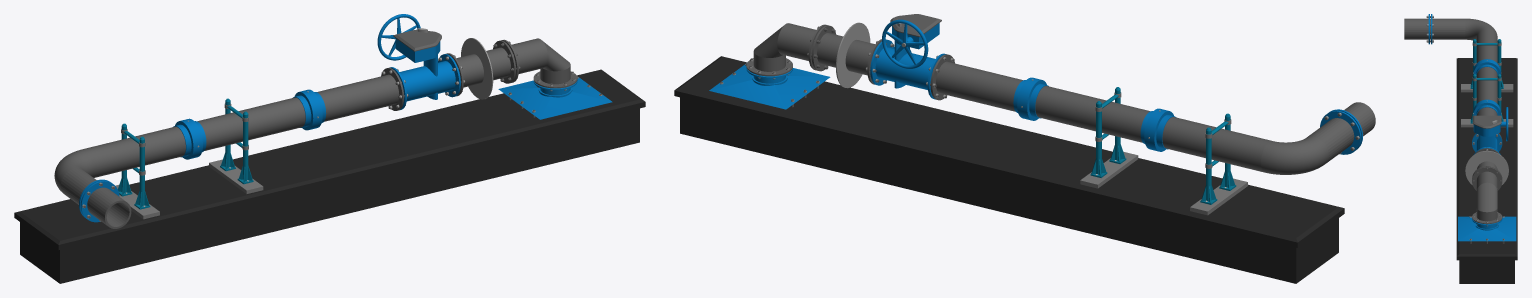
File: PRU.fbx
3 views of the same model, side by side, from view 1: azimuth 30°, elevation 25°; view 2: azimuth 150°, elevation 25°; view 3: azimuth 270°, elevation 25° (orthographic). The views are drawn at different scales.
Parts seen in each view (by area): view 1: Box218, Cylinder223, Torus007, Cone001, Cylinder216, Cylinder224, Cylinder160, Cylinder107, Box019, Box020, Cylinder226, Cylinder259 (+6 smaller); view 2: Box218, Cylinder223, Torus007, Cone001, Cylinder216, Cylinder224, Cylinder107, Cylinder160, Box020, Box222, Box019, Cylinder226 (+5 smaller); view 3: Box218, Torus007, Cylinder223, Cone001, Cylinder160, Cylinder106, Box019, Cylinder117, Cylinder107, Box018, Cylinder189, Cylinder105 (+12 smaller).
Boxes of the visible parts, x1=… form: Box218: x1=14, y1=69, x2=645, y2=283; Cylinder223: x1=83, y1=74, x2=399, y2=177; Torus007: x1=54, y1=149, x2=131, y2=228; Cone001: x1=498, y1=77, x2=612, y2=119; Cylinder216: x1=399, y1=61, x2=455, y2=101; Cylinder224: x1=456, y1=47, x2=510, y2=87; Cylinder160: x1=461, y1=38, x2=493, y2=99; Cylinder107: x1=511, y1=38, x2=548, y2=73; Box019: x1=393, y1=29, x2=441, y2=51; Box020: x1=209, y1=159, x2=263, y2=193; Cylinder226: x1=294, y1=89, x2=322, y2=130; Cylinder259: x1=175, y1=118, x2=202, y2=159; Box218: x1=674, y1=56, x2=1344, y2=283; Cylinder223: x1=936, y1=61, x2=1271, y2=172; Torus007: x1=1261, y1=102, x2=1375, y2=174; Cone001: x1=709, y1=64, x2=830, y2=109; Cylinder216: x1=875, y1=47, x2=935, y2=89; Cylinder224: x1=817, y1=33, x2=874, y2=75; Cylinder107: x1=777, y1=23, x2=816, y2=60; Cylinder160: x1=836, y1=22, x2=870, y2=88; Box020: x1=1080, y1=151, x2=1138, y2=188; Box222: x1=1190, y1=178, x2=1247, y2=215; Box019: x1=890, y1=14, x2=941, y2=37; Cylinder226: x1=1017, y1=77, x2=1046, y2=120; Box218: x1=1456, y1=58, x2=1517, y2=283; Torus007: x1=1404, y1=18, x2=1497, y2=40; Cylinder223: x1=1476, y1=28, x2=1497, y2=115; Cone001: x1=1458, y1=216, x2=1516, y2=241; Cylinder160: x1=1465, y1=150, x2=1508, y2=184; Cylinder106: x1=1476, y1=182, x2=1497, y2=212; Box019: x1=1472, y1=115, x2=1501, y2=128; Cylinder117: x1=1472, y1=166, x2=1502, y2=190; Cylinder107: x1=1476, y1=171, x2=1497, y2=190; Box018: x1=1473, y1=124, x2=1500, y2=136; Cylinder189: x1=1478, y1=134, x2=1495, y2=149; Cylinder105: x1=1476, y1=208, x2=1497, y2=221.
Size of the model in its own units: 5546 by 1380 by 1341.
